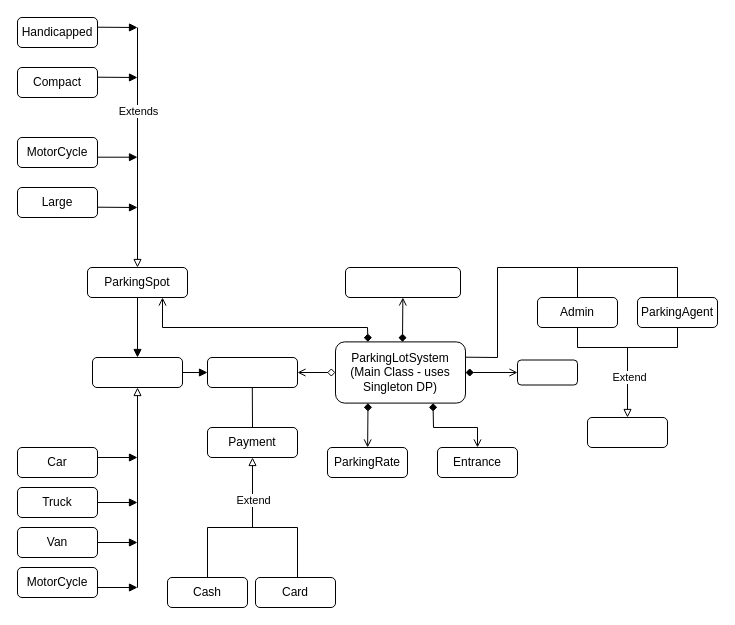
Some shapes in this 735 by 625 pixel diagram are drawn without their labels. Here are the shapes that lost their labels. From the top down, the centre of each, then its label:
At point (402, 282): "DisplayBoard".
At point (137, 372): "Vehicle".
At point (252, 372): "ParkingTicket".
At point (547, 372): "Exit".
At point (627, 432): "Account".
